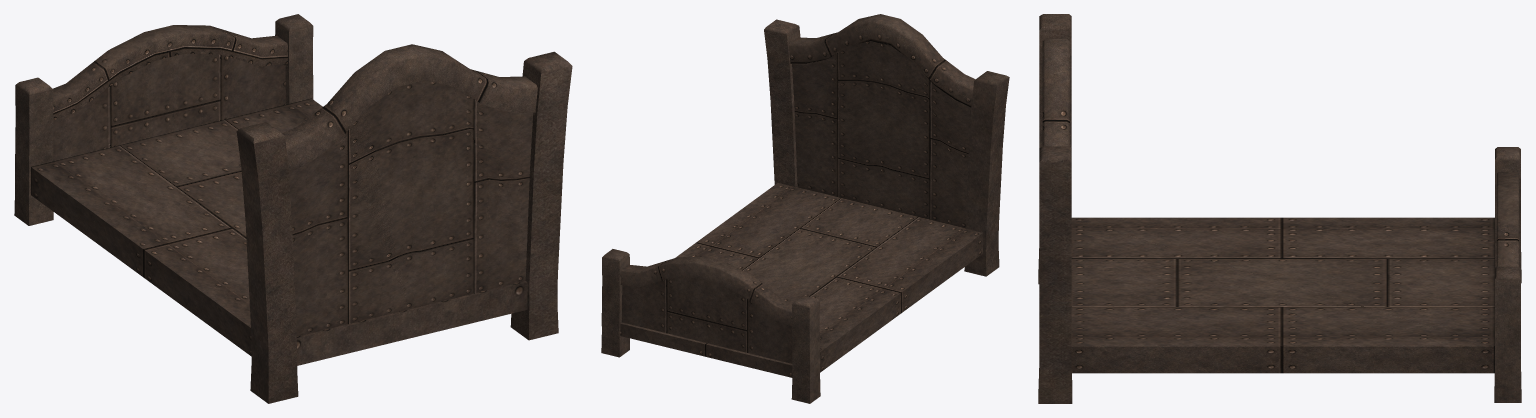
Rendered from Bedroom_Bed_Metal.fbx.
The picture shows the model from 3 angles, left to right: view 1: azimuth 30°, elevation 25°; view 2: azimuth 150°, elevation 25°; view 3: azimuth 270°, elevation 25°; orthographic projection. The views are drawn at different scales.
Parts seen in each view (by area): view 1: Bedroom_Bed_Metal; view 2: Bedroom_Bed_Metal; view 3: Bedroom_Bed_Metal.
Part boxes in pixels (x1,y1,x2,y2): Bedroom_Bed_Metal: (14,14,572,403); Bedroom_Bed_Metal: (601,14,1009,403); Bedroom_Bed_Metal: (1038,14,1521,403).
Size of the model in its own units: 129 by 120 by 181.
